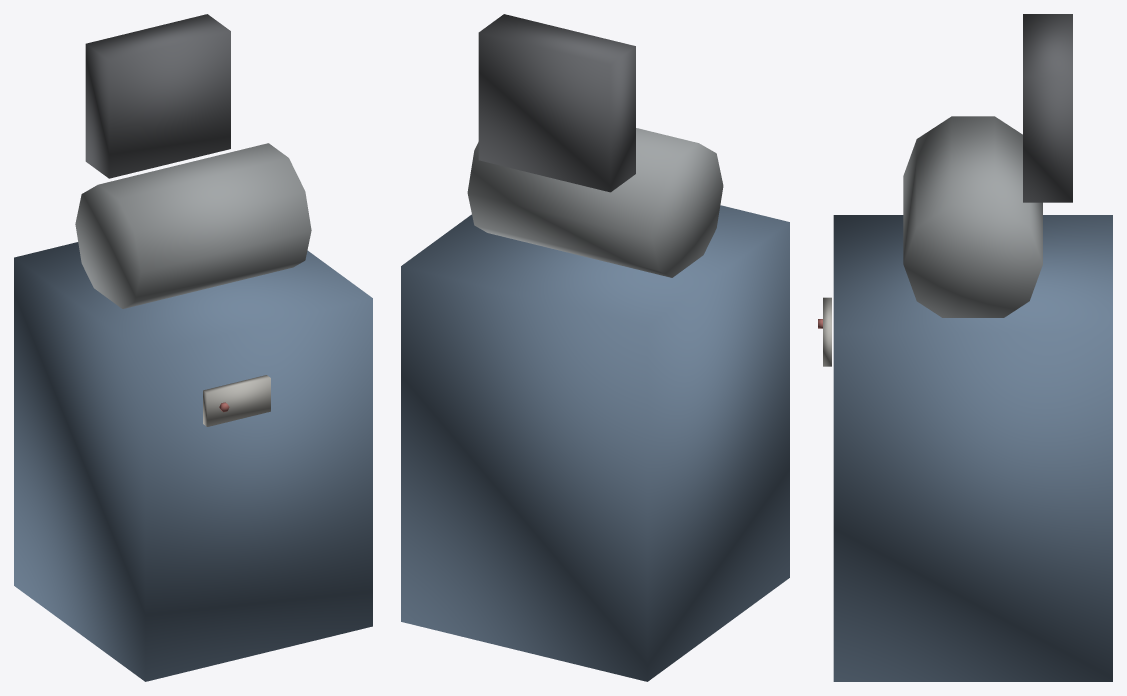
File: wheel_balancer__reinforced.glb
The picture shows the model from 3 angles, left to right: view 1: azimuth 30°, elevation 25°; view 2: azimuth 150°, elevation 25°; view 3: azimuth 270°, elevation 25°; orthographic projection. The views are drawn at different scales.
Parts seen in each view (by area): view 1: world; view 2: world; view 3: world.
Part boxes in pixels (x1,y1,x2,y2): world: (14, 14, 372, 681); world: (401, 14, 789, 681); world: (818, 14, 1112, 681).
Bounding box in the file's own units: 0.5768 × 1.32 × 0.6087.
